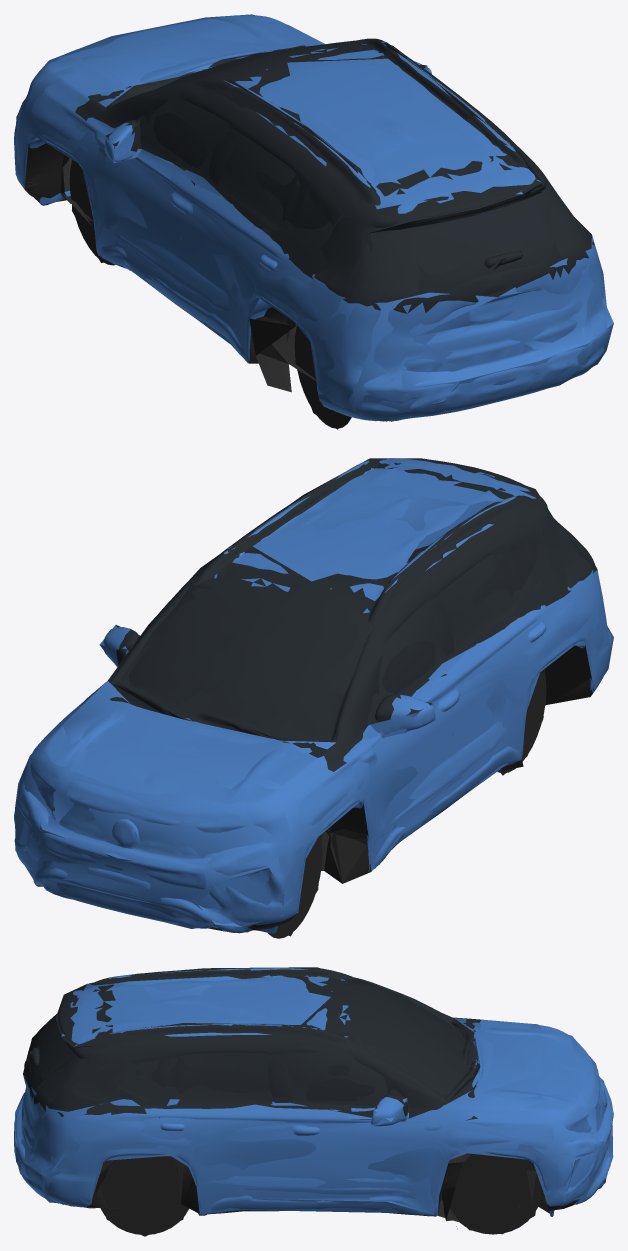
File: volkswagen-taos.glb
3 views of the same model, one above another, from view 1: azimuth 30°, elevation 25°; view 2: azimuth 150°, elevation 25°; view 3: azimuth 270°, elevation 25° (orthographic). The views are drawn at different scales.
Visible parts, largest first — view 1: body, far; view 2: body, far; view 3: body, far.
Boxes of the visible parts, x1,y1,x2,y2 form: body: (14,15,609,428); far: (14,14,613,429); body: (14,458,612,938); far: (15,458,613,936); body: (14,968,612,1234); far: (15,967,613,1236).
Size of the model in its own units: 2.12 by 1.67 by 4.41.
